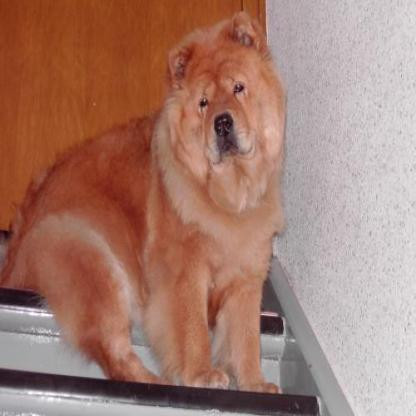chow: (0, 11, 290, 398)
